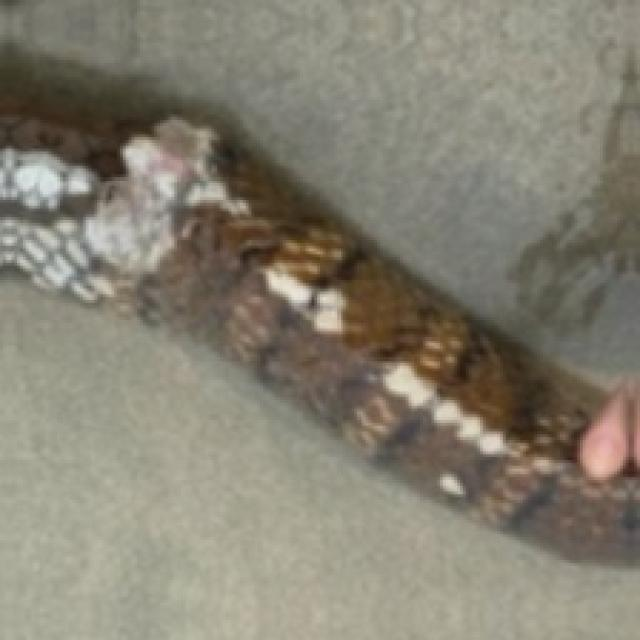king cobra: (0, 117, 637, 554)
